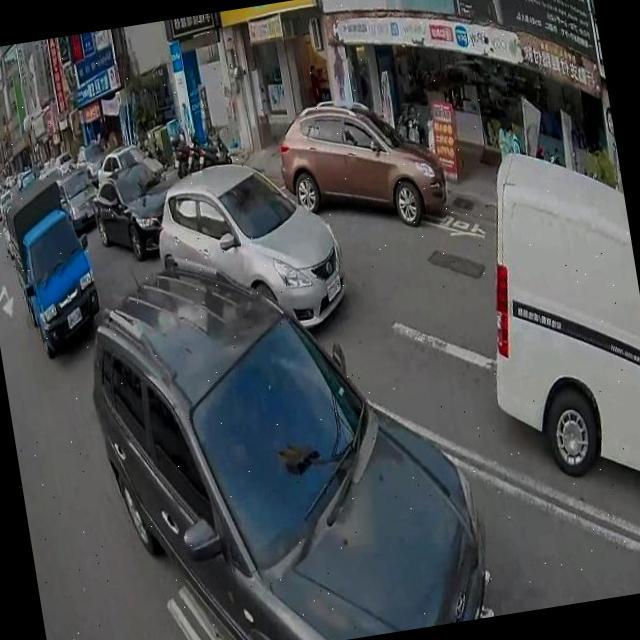person: (494, 122, 512, 162), (308, 63, 324, 103)
